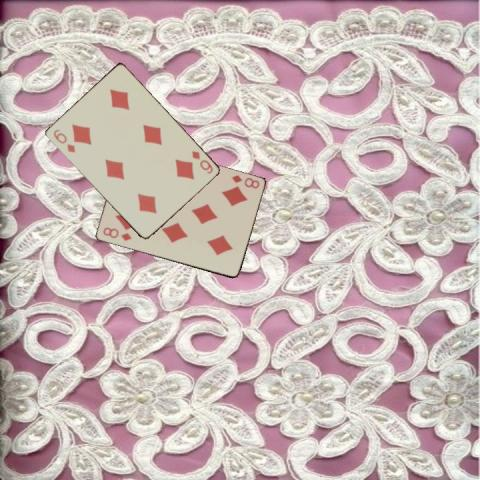6d: (50, 127, 77, 154), (188, 148, 214, 176)
8d: (100, 224, 133, 243), (228, 172, 260, 190)
